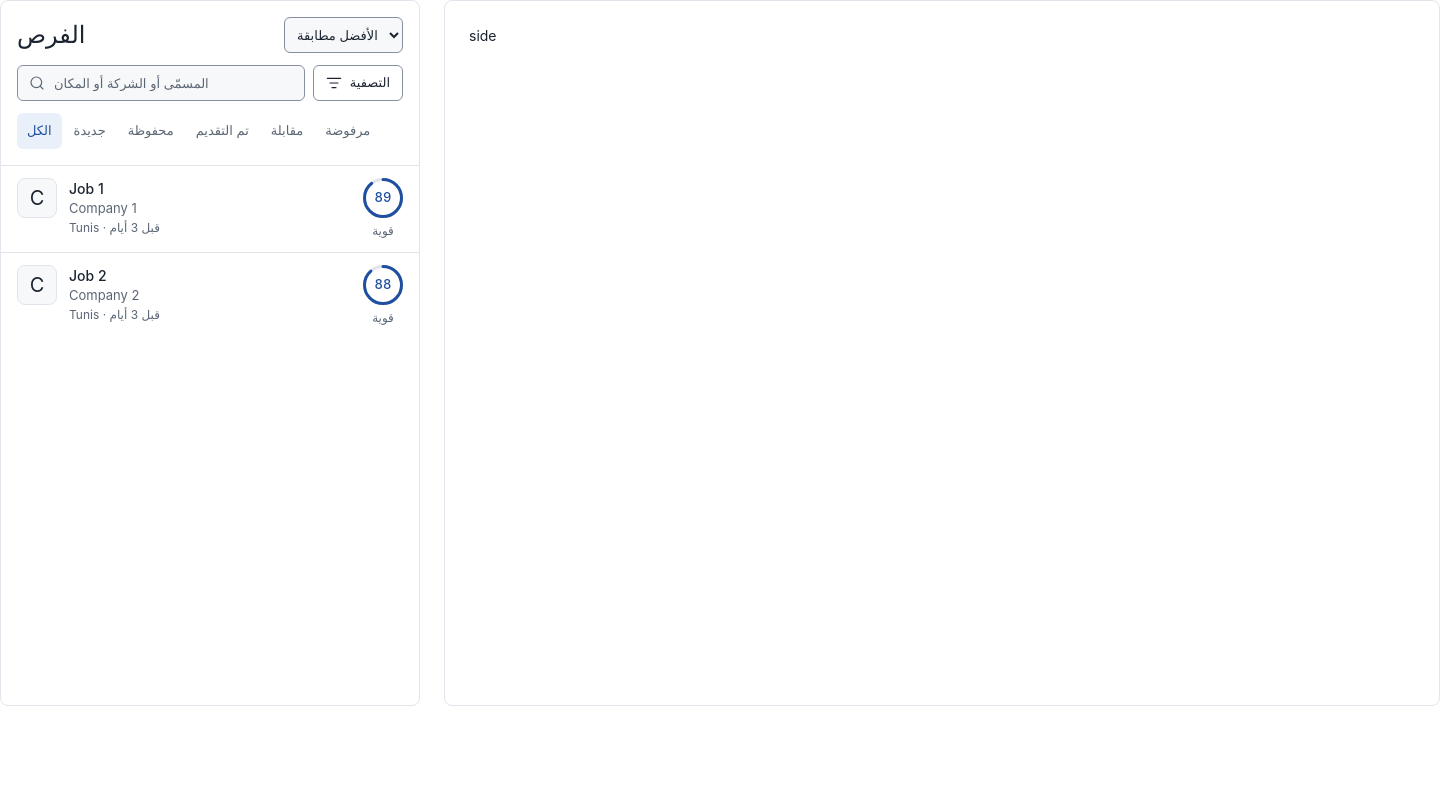
Test case: in Arabic › shows the search and the filters in Arabic
This screenshot has width=1440, height=810.
Check: the search field named "ابحث في الوظائف" is shown, box 17,65 -> 305,101
Click the button "التصفية" at (358, 83), box 313,65 -> 403,101
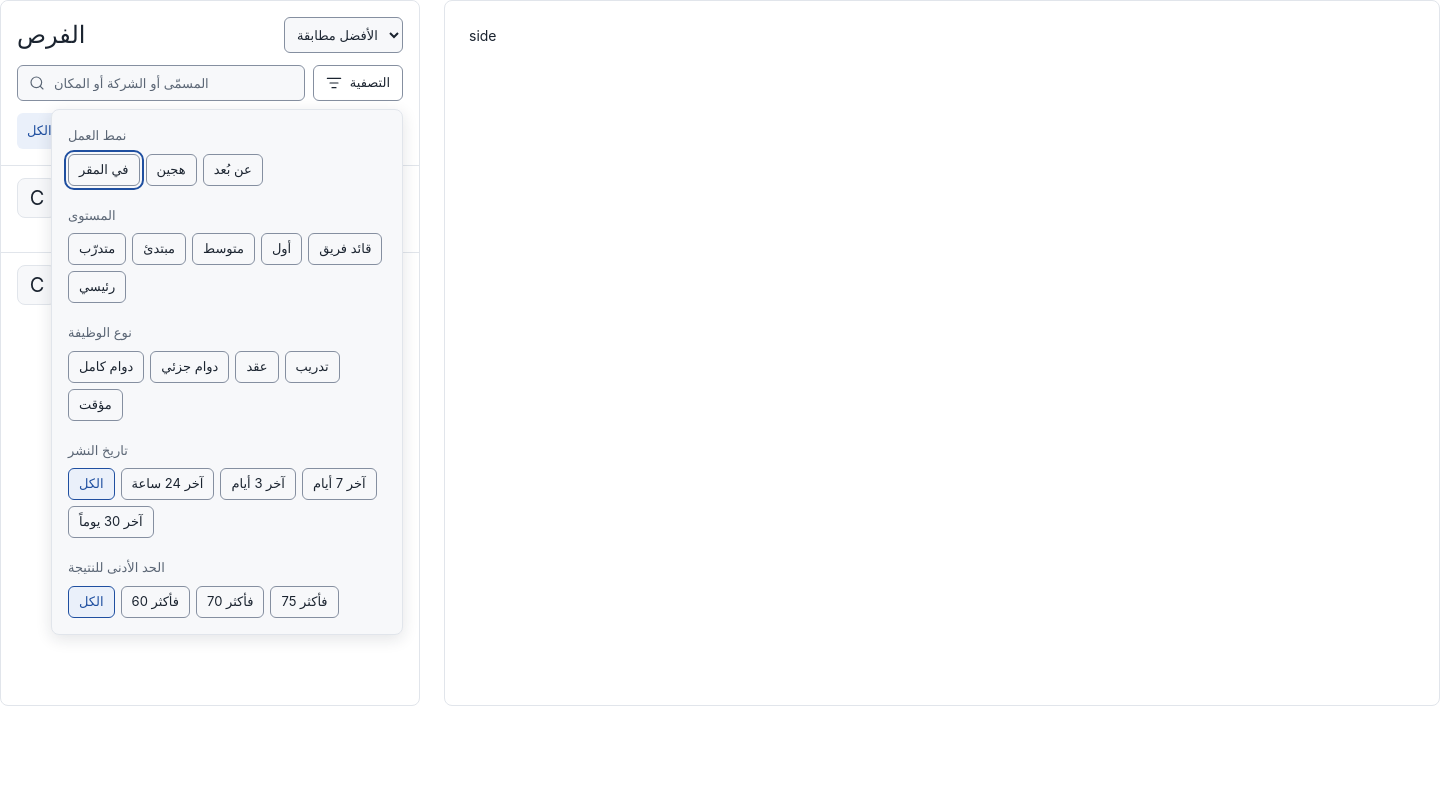
Check: the text "نمط العمل" is shown, box 68,127 -> 126,143
Check: the button "عن بُعد" is shown, box 203,154 -> 263,186
